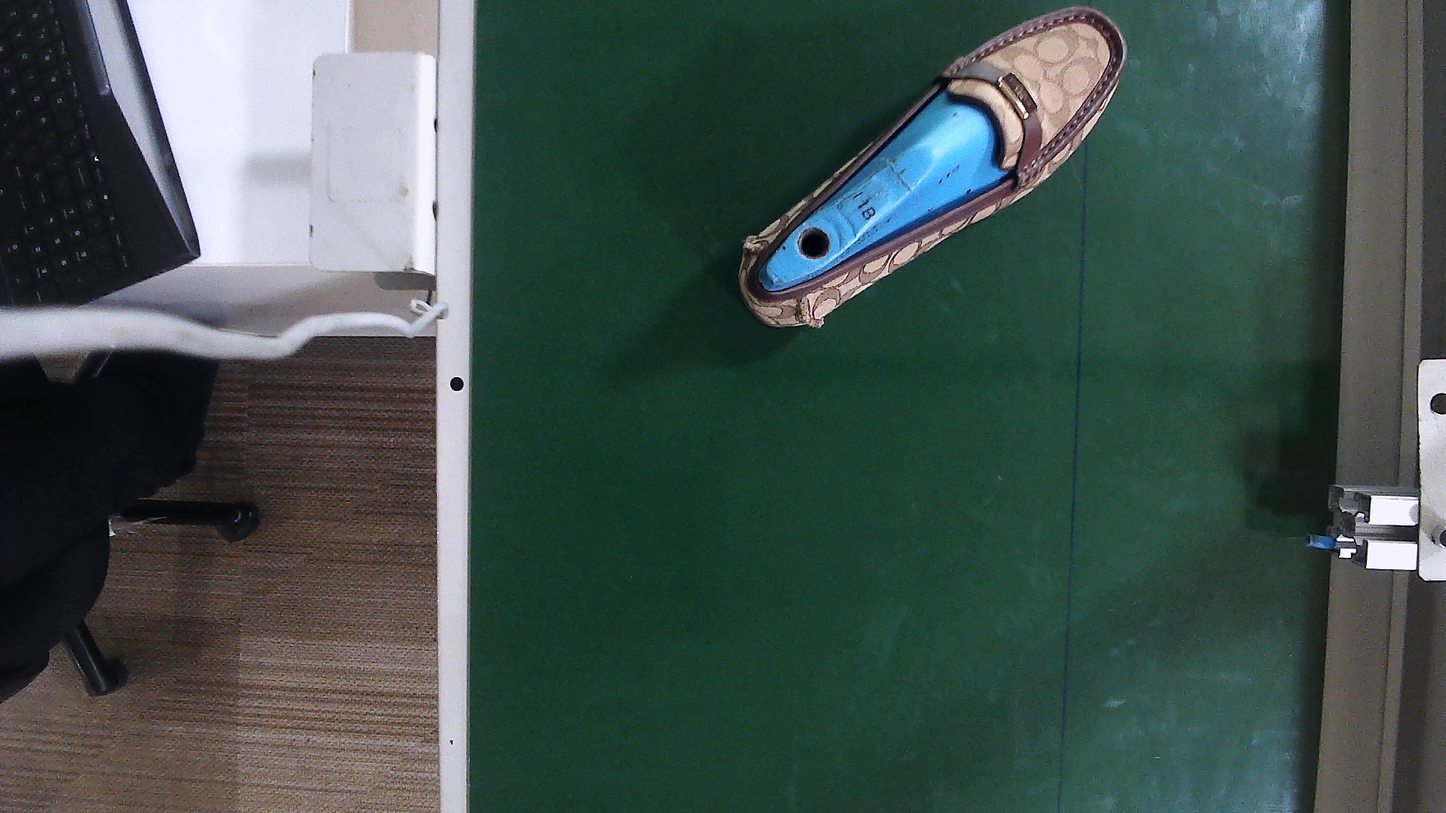shoe: (740, 11, 1124, 328)
